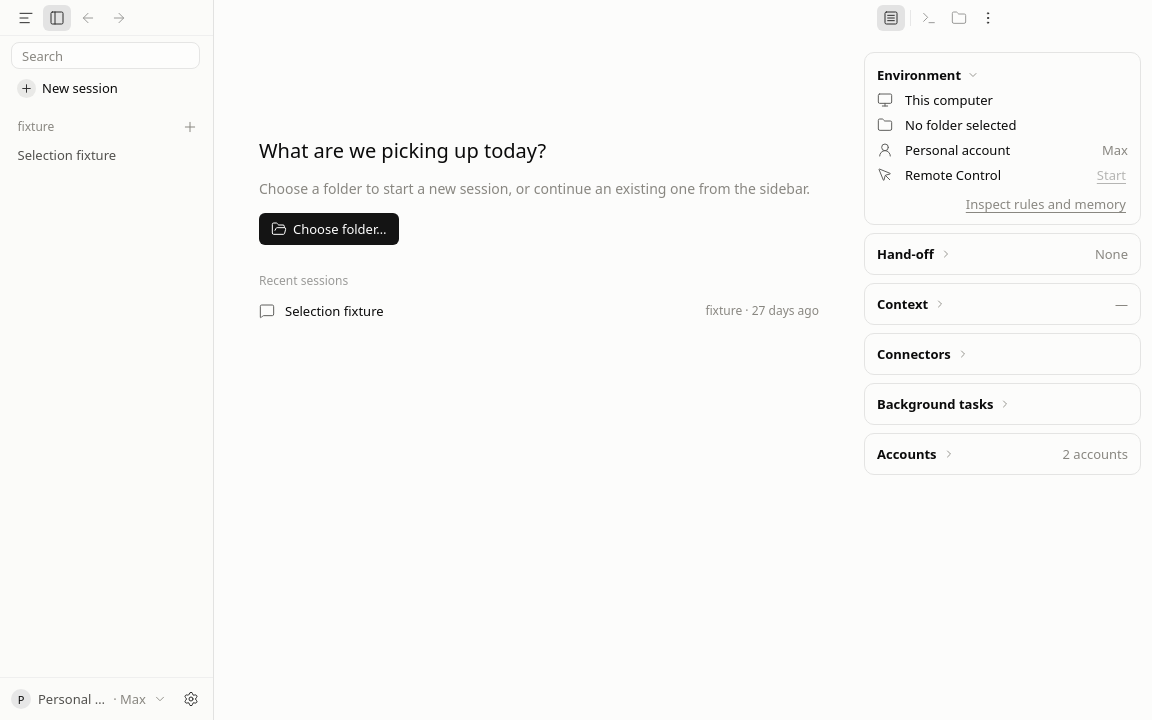
Test: selection pill › is reachable with Tab and has keyboard-usable buttons
Click the button "Selection fixture" at [106, 155], box left=7, top=141, right=206, bottom=169
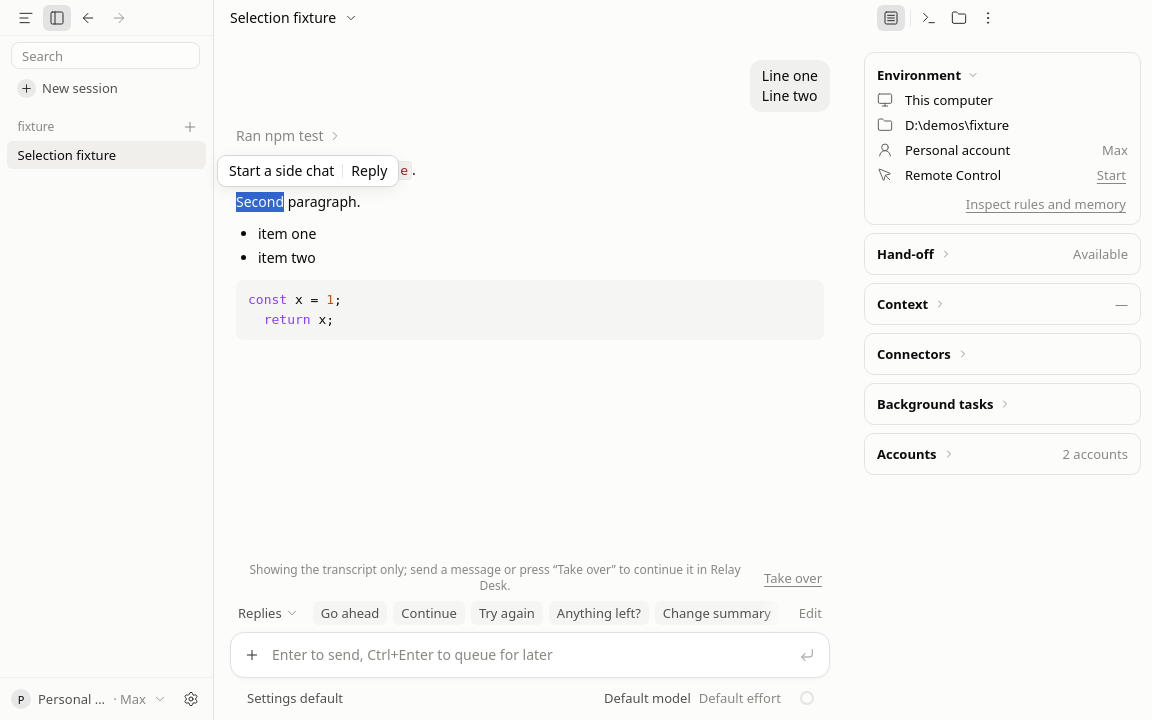
Result: the element with test id "assistant-message" is shown at left=230, top=160, right=830, bottom=352
Press Tab
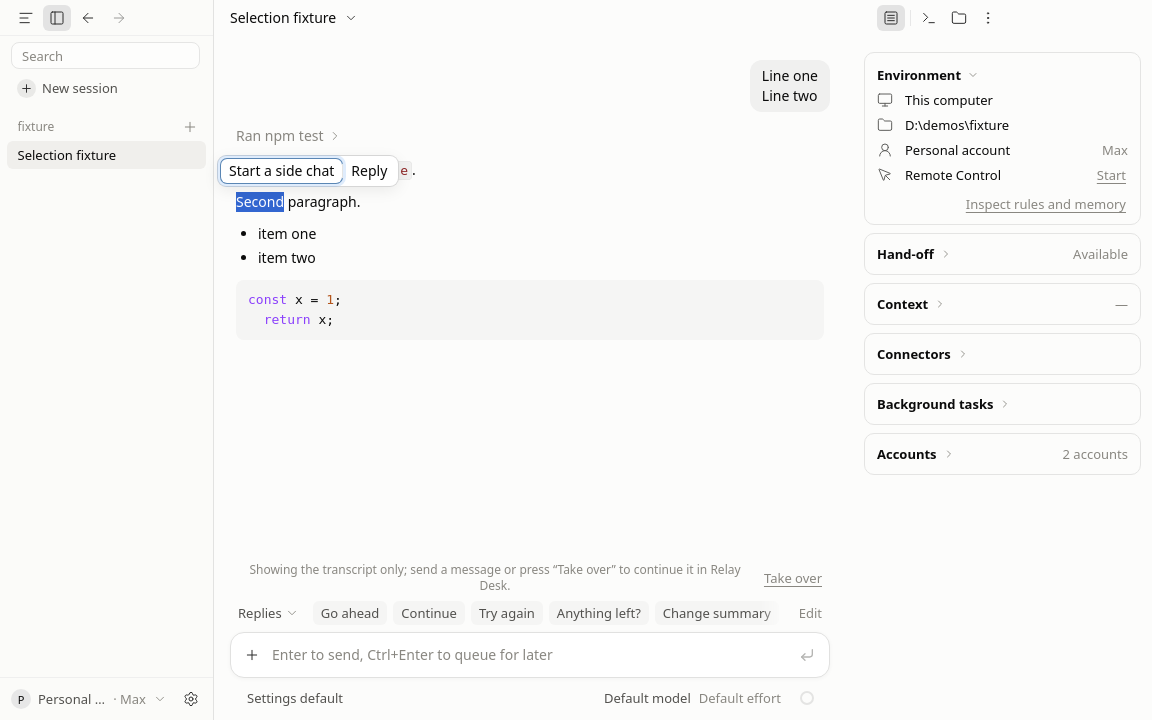
Press Tab
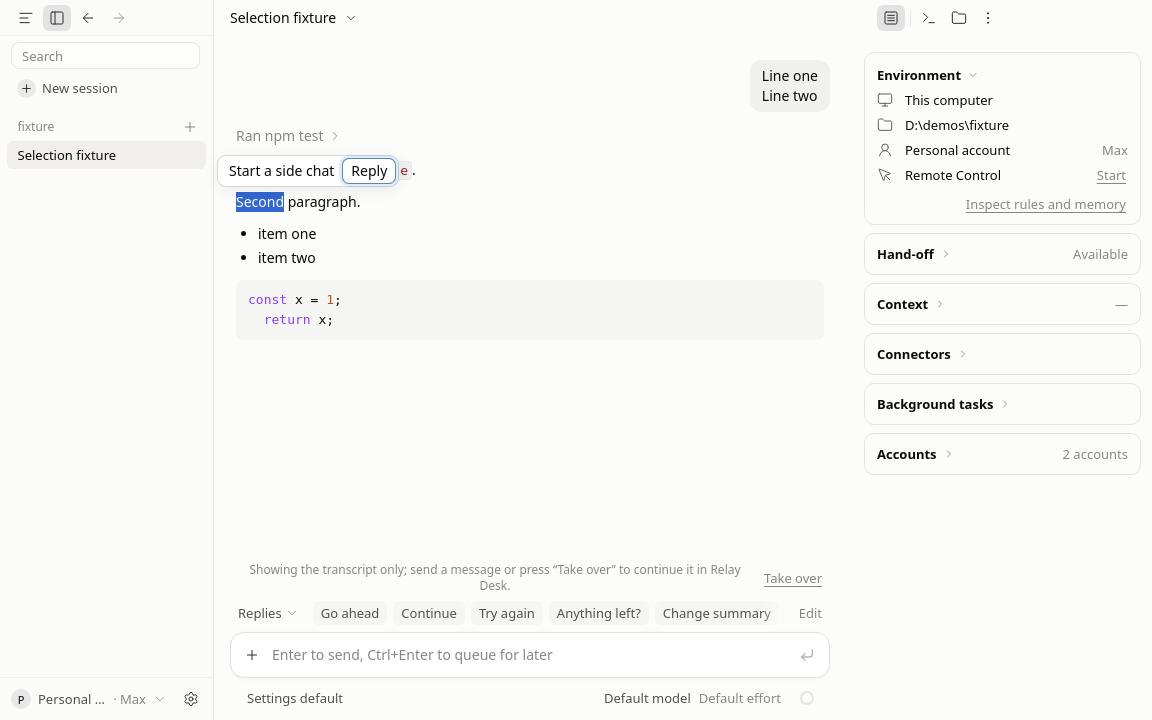
Press Enter
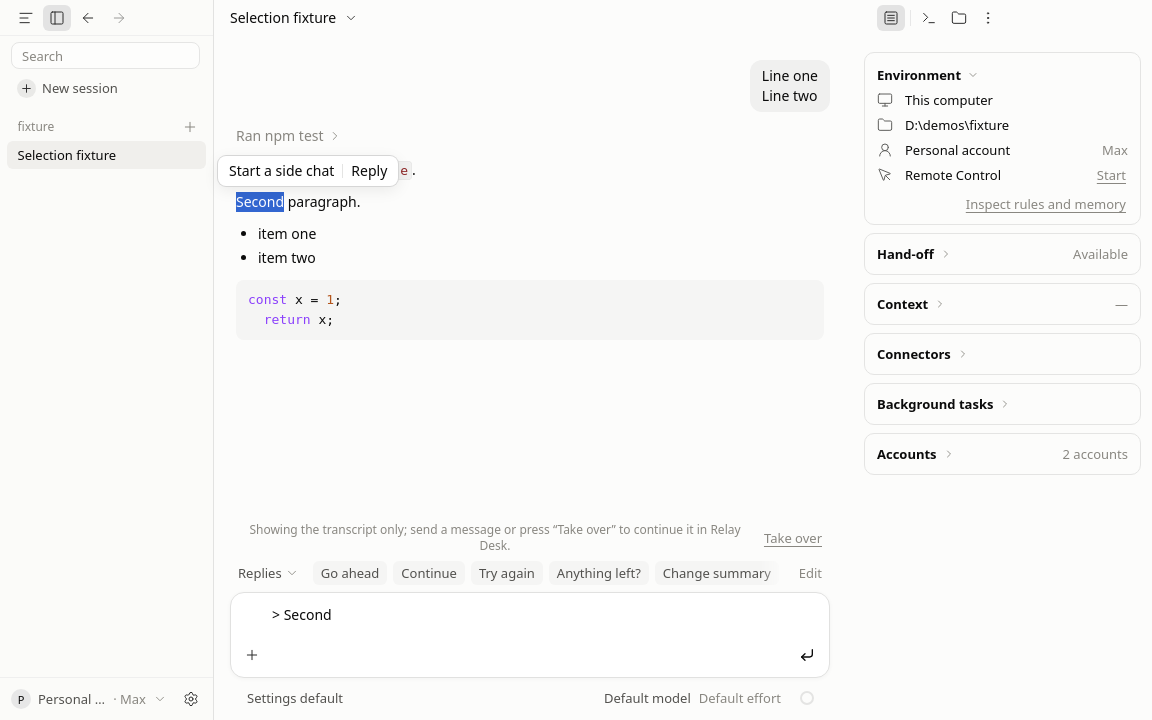
Press Tab
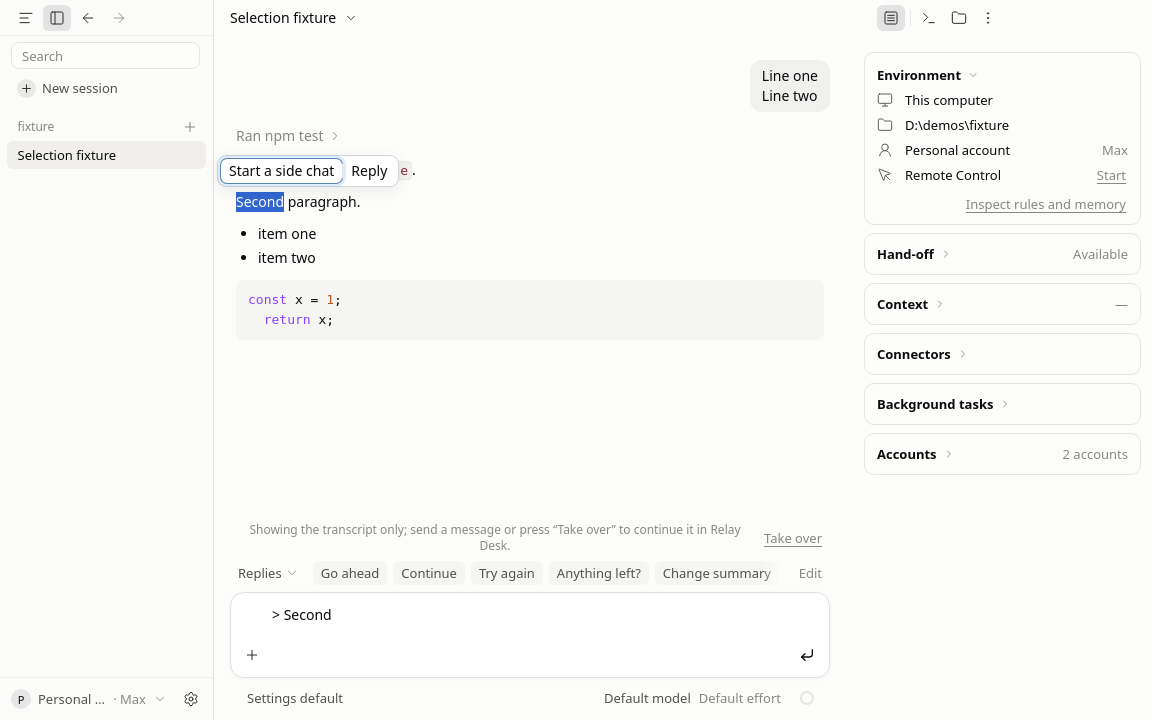
Press Escape
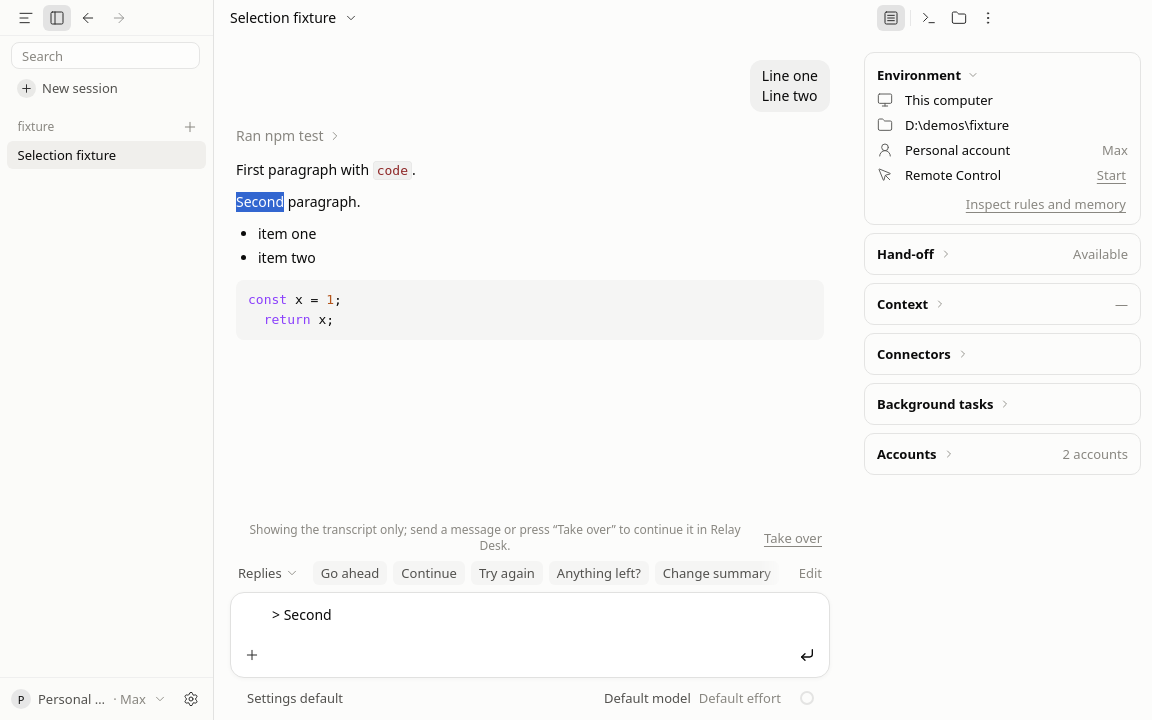
Result: the element with test id "selection-menu" is gone
